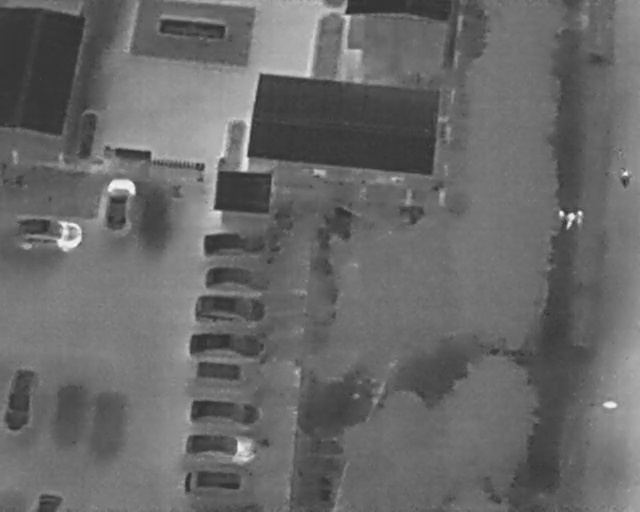Car: (13, 218, 83, 253), (184, 433, 258, 465), (189, 333, 263, 363), (2, 367, 36, 432), (188, 399, 261, 428), (194, 295, 267, 323), (102, 176, 135, 235), (205, 267, 271, 292), (183, 470, 246, 495), (204, 233, 266, 258), (34, 492, 62, 512)
Person: (619, 167, 632, 187), (566, 212, 575, 230), (576, 209, 584, 223), (558, 209, 565, 221)
